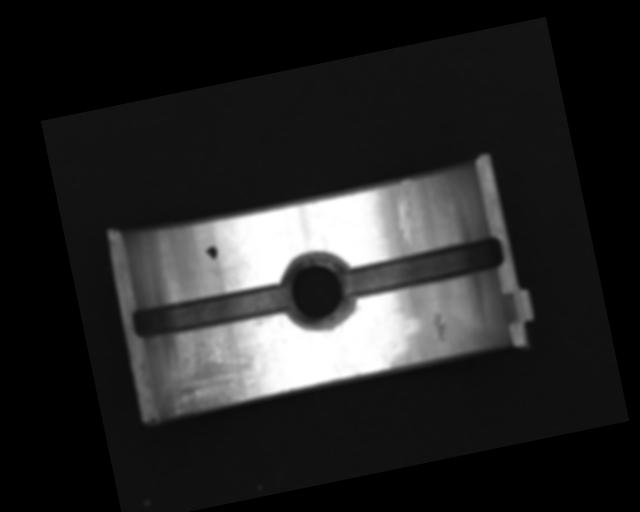blot: (203, 243, 219, 261)
bruise: (427, 309, 451, 345)
gap: (339, 233, 505, 302), (130, 279, 294, 343)
hole: (274, 246, 359, 336)
nick: (389, 178, 423, 247)
scratch: (146, 319, 270, 420)
